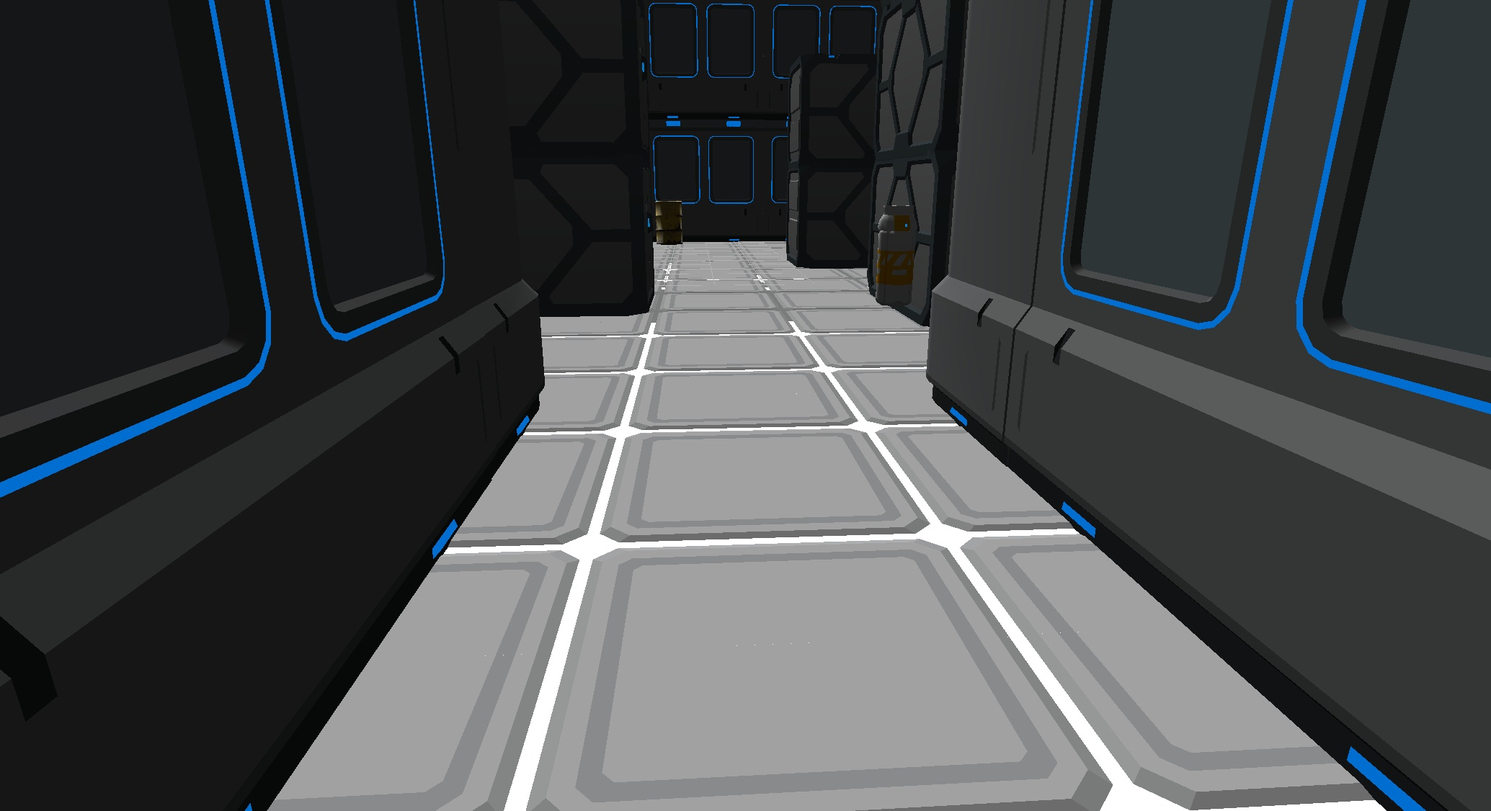yellow_barrel: (873, 205, 926, 305)
